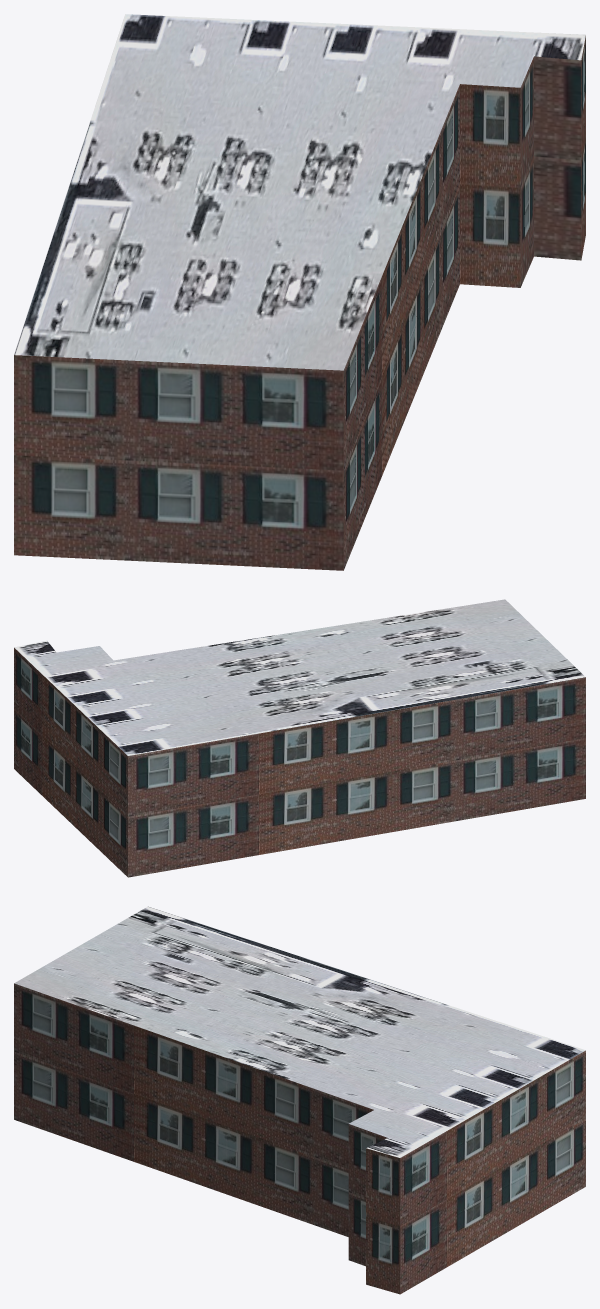
File: ResTex__342.fbx
3 views of the same model, one above another, from view 1: azimuth 30°, elevation 25°; view 2: azimuth 150°, elevation 25°; view 3: azimuth 270°, elevation 25° (orthographic). The views are drawn at different scales.
Visible parts, largest first — view 1: CityEngineMaterial_8_m, CityEngineMaterial_14_m; view 2: CityEngineMaterial_14_m, CityEngineMaterial_8_m; view 3: CityEngineMaterial_14_m, CityEngineMaterial_8_m.
Boxes of the visible parts, <box> form: CityEngineMaterial_8_m: <box>14,14,585,370</box>; CityEngineMaterial_14_m: <box>14,36,585,570</box>; CityEngineMaterial_14_m: <box>14,648,585,877</box>; CityEngineMaterial_8_m: <box>14,599,585,755</box>; CityEngineMaterial_14_m: <box>14,983,585,1294</box>; CityEngineMaterial_8_m: <box>14,906,585,1157</box>.
Size of the model in its own units: 23.75 by 6 by 22.81.
Materials: 2 (2 with a texture image).
